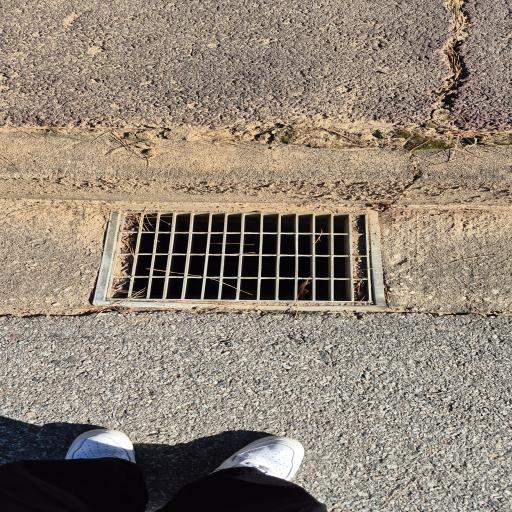drain: (95, 210, 382, 307)
